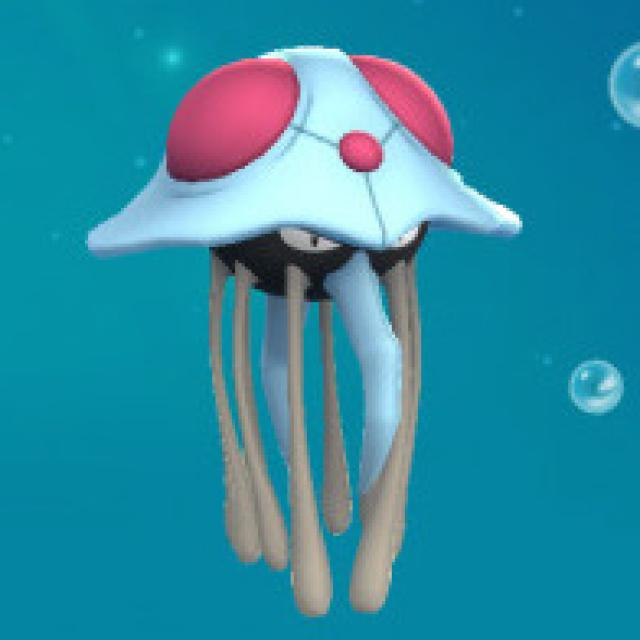Tentacruel: (163, 48, 457, 467)
